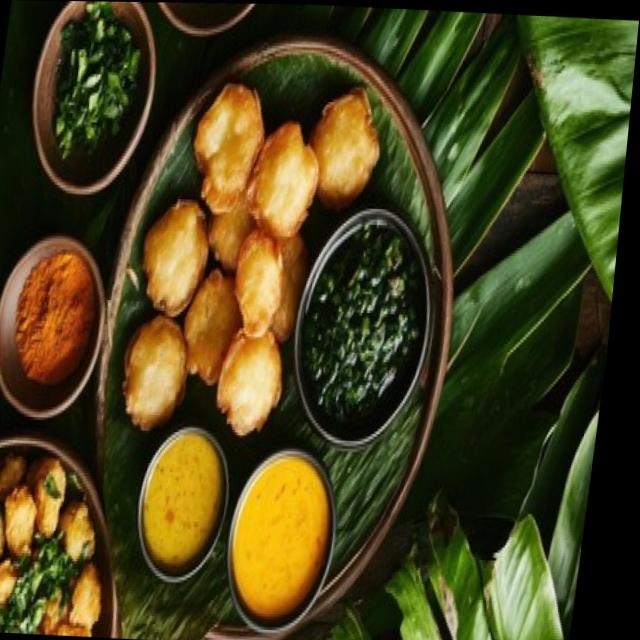GREEN CHUTNEY: (306, 223, 418, 428)
SAMBAR: (233, 458, 325, 613), (148, 438, 216, 559)
